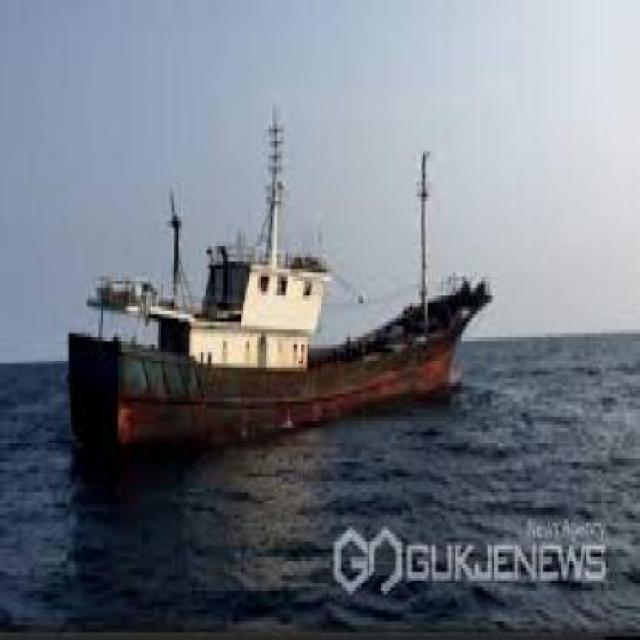fish-b: (64, 100, 507, 471)
